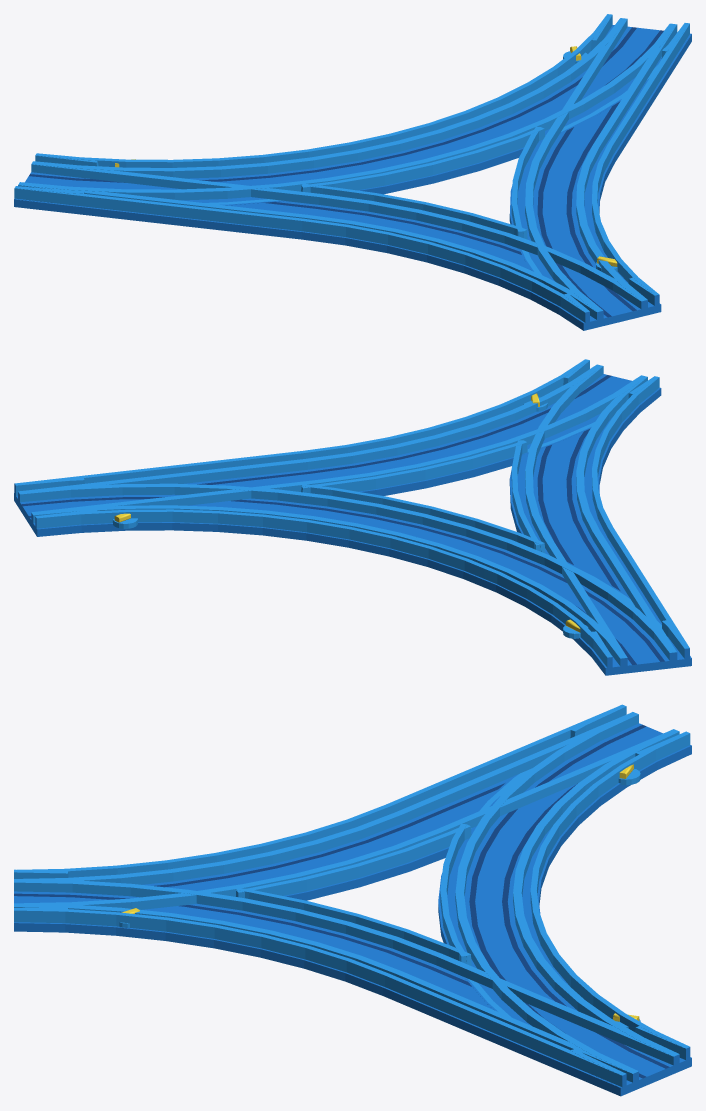
The model's file is Track_Point_Triangle.fbx.
3 renders of one model, top to bottom at view 1: azimuth 30°, elevation 25°; view 2: azimuth 150°, elevation 25°; view 3: azimuth 270°, elevation 25°, orthographic. The views are drawn at different scales.
Parts seen in each view (by area): view 1: Rail cross, Rail left, Rail right; view 2: Rail cross, Rail right, Rail left; view 3: Rail right, Rail cross, Rail left.
Boxes of the visible parts, left/top/right/bottom form: Rail cross: left=14, top=14, right=691, bottom=205; Rail left: left=14, top=155, right=661, bottom=330; Rail right: left=509, top=15, right=691, bottom=330; Rail cross: left=14, top=477, right=691, bottom=675; Rail right: left=14, top=359, right=660, bottom=536; Rail left: left=509, top=360, right=691, bottom=675; Rail right: left=14, top=869, right=691, bottom=1096; Rail cross: left=438, top=704, right=691, bottom=1095; Rail left: left=16, top=708, right=691, bottom=909.
Size of the model in its own units: 923 by 23.41 by 710.
